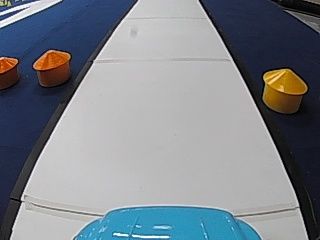granary: (261, 67, 308, 113), (31, 47, 71, 88), (0, 55, 19, 88)
